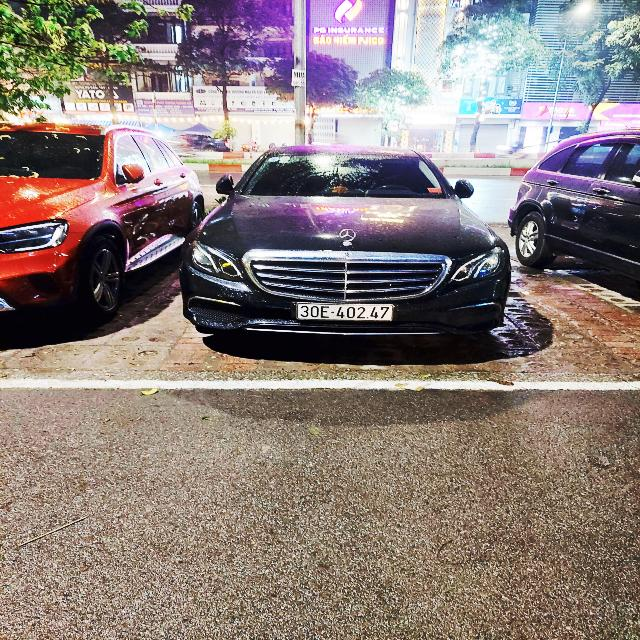license_plate: (296, 303, 395, 323)
